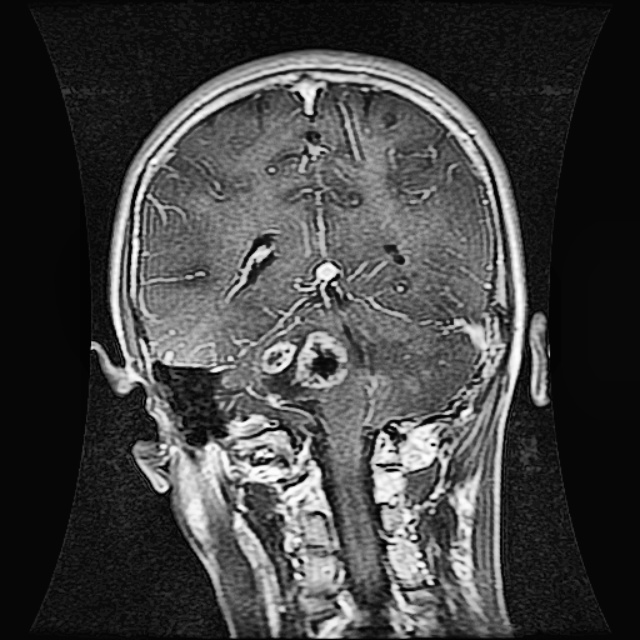Meningioma: (253, 324, 350, 390)
